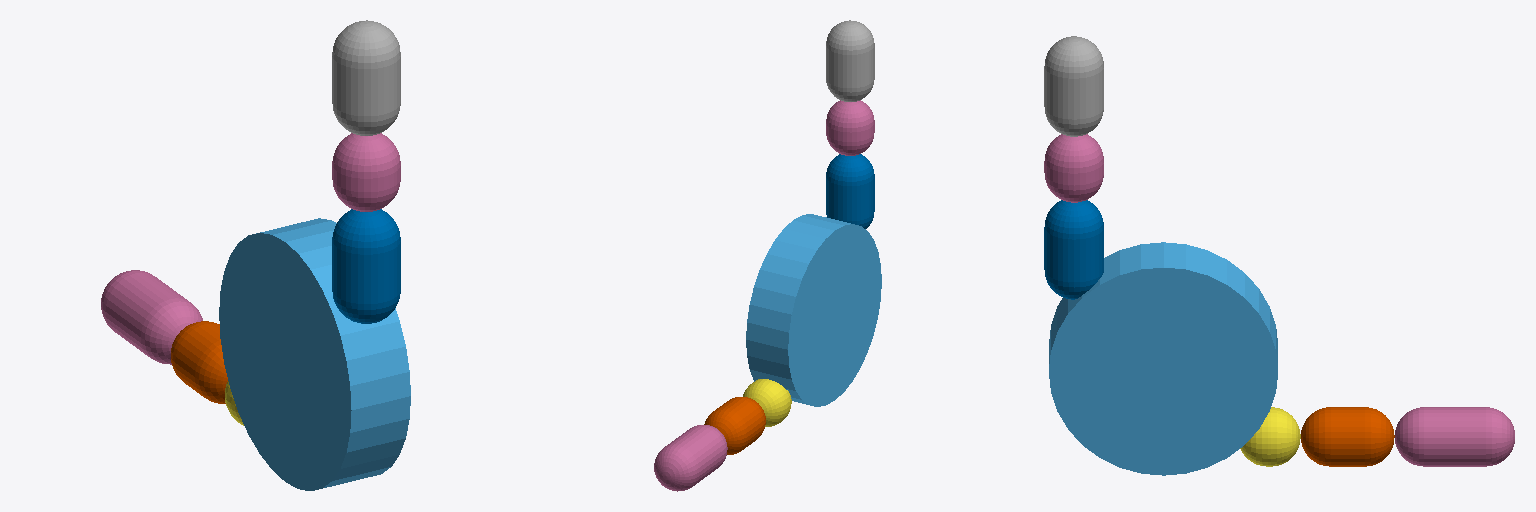
robot.urdf — DexterousHand:
<?xml version="1.0"?>
<robot name="DexterousHand">


    <link name="world"/>
    <joint name="world_to_palm" type="fixed">
        <parent link="world"/>
        <child link="palm"/>
        <origin xyz="0 0 0" rpy="0 0 0"/>
    </joint>
    <link name="palm">
        <inertial>
            <origin xyz="0 0 0.057" rpy="0 0 0"/>
            <mass value="0.30212892864"/>
            <inertia ixx="0.00049080844457568" ixy="0.0" ixz="0.0" iyy="0.00026746366246427523" iyz="0.0" izz="0.00026746366246427523"/>
        </inertial>
        <visual>
            <origin xyz="0 0 0.057" rpy="1.5708 0 1.5708"/>
            <geometry>
                <cylinder radius="0.057" length="0.0296"/>
            </geometry>
            <material name="default"/>
        </visual>
        <collision>
            <origin xyz="0 0 0.057" rpy="1.5708 0 1.5708"/>
            <geometry>
                <cylinder radius="0.057" length="0.0296"/>
            </geometry>
        </collision>
    </link>

    
    <joint name="thumb_joint1" type="revolute">
        <parent link="palm"/>
        <child link="thumb_base"/>
        <origin xyz="0.0029 0.0368 0.0157" rpy="-1.5708 -1.5708 0.0"/>
        <axis xyz="-1 0 0"/>
        <limit lower="-0.349" upper="2.094" effort="1.0" velocity="1.0"/>
    </joint>

    <link name="thumb_base"></link>

    <joint name="thumb_joint2" type="revolute">
        <parent link="thumb_base"/>
        <child link="thumb_proximal"/>
        <origin xyz="0.0 0.0 0.0" rpy="0.0 0.0 0.0"/>
        <axis xyz="0 0 1"/>
        <limit lower="-0.47" upper="2.443" effort="1.0" velocity="1.0"/>
    </joint>

    <link name="thumb_proximal">
        <inertial>
            <origin xyz="0 0 0.01565" rpy="0 0 0"/>
            <mass value="0.021538658803200002"/>
            <inertia ixx="2.9378910096388167e-06" ixy="0.0" ixz="0.0" 
            iyy="2.9378910096388167e-06" iyz="0.0" izz="2.358913912126464e-06"/>
        </inertial>
        <visual>
            <origin xyz="0 0 0.01565" rpy="0 0 0"/>
            <geometry>
                <cylinder radius="0.0148" length="0.0017000000000000001"/>
            </geometry>
            <material name="default"/>
        </visual>
        <visual>
            <origin xyz="0 0 0.0148" rpy="0 0 0"/>
            <geometry>
                <sphere radius="0.0148"/>
            </geometry>
            <material name="default"/>
        </visual>
        <visual>
            <origin xyz="0 0 0.0165" rpy="0 0 0"/>
            <geometry>
                <sphere radius="0.0148"/>
            </geometry>
            <material name="default"/>
        </visual>
        <collision>
            <origin xyz="0 0 0.01565" rpy="0 0 0"/>
            <geometry>
                <cylinder radius="0.0148" length="0.0017000000000000001"/>
            </geometry>
        </collision>
        <collision>
            <origin xyz="0 0 0.0148" rpy="0 0 0"/>
            <geometry>
                <sphere radius="0.0148"/>
            </geometry>
        </collision>
        <collision>
            <origin xyz="0 0 0.0165" rpy="0 0 0"/>
            <geometry>
                <sphere radius="0.0148"/>
            </geometry>
        </collision>
    </link>

    <joint name="thumb_joint3" type="revolute">
        <parent link="thumb_proximal"/>
        <child link="thumb_knuckle"/>
        <origin xyz="0.0 0.0 0.0313" rpy="0.0 0.0 0.0"/>
        <axis xyz="1 0 0"/>
        <limit lower="0.0" upper="0.0" effort="1.0" velocity="1.0"/>
    </joint>

    <link name="thumb_knuckle"></link>

    <joint name="thumb_joint4" type="revolute">
        <parent link="thumb_knuckle"/>
        <child link="thumb_middle"/>
        <origin xyz="0 0 0" rpy="0 0 0"/> 
        <axis xyz="0 1 0"/>
        <limit lower="-1.2" upper="1.9" effort="1.0" velocity="1.0"/>
    </joint>

    <link name="thumb_middle">
        <inertial>
            <origin xyz="0 0 0.0233" rpy="0 0 0"/>
            <mass value="0.032067140582400004"/>
            <inertia ixx="7.5589732685519385e-06" ixy="0.0" ixz="0.0" 
            iyy="7.5589732685519385e-06" iyz="0.0" izz="3.5119932365844485e-06"/>
        </inertial>
        <visual>
            <origin xyz="0 0 0.0233" rpy="0 0 0"/>
            <geometry>
                <cylinder radius="0.0148" length="0.017"/>
            </geometry>
            <material name="default"/>
        </visual>
        <visual>
            <origin xyz="0 0 0.0148" rpy="0 0 0"/>
            <geometry>
                <sphere radius="0.0148"/>
            </geometry>
            <material name="default"/>
        </visual>
        <visual>
            <origin xyz="0 0 0.0318" rpy="0 0 0"/>
            <geometry>
                <sphere radius="0.0148"/>
            </geometry>
            <material name="default"/>
        </visual>
        <collision>
            <origin xyz="0 0 0.0233" rpy="0 0 0"/>
            <geometry>
                <cylinder radius="0.0148" length="0.017"/>
            </geometry>
        </collision>
        <collision>
            <origin xyz="0 0 0.0148" rpy="0 0 0"/>
            <geometry>
                <sphere radius="0.0148"/>
            </geometry>
        </collision>
        <collision>
            <origin xyz="0 0 0.0318" rpy="0 0 0"/>
            <geometry>
                <sphere radius="0.0148"/>
            </geometry>
        </collision>
    </link>

    <joint name="thumb_joint5" type="revolute">
        <parent link="thumb_middle"/>
        <child link="thumb_distal"/>
        <origin xyz="0 0 0.0466" rpy="0 0 0"/> 
        <axis xyz="0 1 0"/>
        <limit lower="-1.34" upper="1.88" effort="1.0" velocity="1.0"/>
    </joint>

    <link name="thumb_distal">
        <inertial>
            <origin xyz="0 0 0.03" rpy="0 0 0"/>
            <mass value="0.04128816384"/>
            <inertia ixx="1.46473890038784e-05" ixy="0.0" ixz="0.0" 
            iyy="1.46473890038784e-05" iyz="0.0" izz="4.521879703756801e-06"/>
        </inertial>
        <visual>
            <origin xyz="0 0 0.03" rpy="0 0 0"/>
            <geometry>
                <cylinder radius="0.0148" length="0.030399999999999996"/>
            </geometry>
            <material name="default"/>
        </visual>
        <visual>
            <origin xyz="0 0 0.0148" rpy="0 0 0"/>
            <geometry>
                <sphere radius="0.0148"/>
            </geometry>
            <material name="default"/>
        </visual>
        <visual>
            <origin xyz="0 0 0.0452" rpy="0 0 0"/>
            <geometry>
                <sphere radius="0.0148"/>
            </geometry>
            <material name="default"/>
        </visual>
        <collision>
            <origin xyz="0 0 0.03" rpy="0 0 0"/>
            <geometry>
                <cylinder radius="0.0148" length="0.030399999999999996"/>
            </geometry>
        </collision>
        <collision>
            <origin xyz="0 0 0.0148" rpy="0 0 0"/>
            <geometry>
                <sphere radius="0.0148"/>
            </geometry>
        </collision>
        <collision>
            <origin xyz="0 0 0.0452" rpy="0 0 0"/>
            <geometry>
                <sphere radius="0.0148"/>
            </geometry>
        </collision>
    </link>

    
    <joint name="index_joint1" type="revolute">
        <parent link="palm"/>
        <child link="index_proximal"/>
        <origin xyz="0.0 0.0 0.0" rpy="0.0 0.0 0.0"/>
        <axis xyz="1 0 0"/>
        <limit lower="0.0" upper="0.0" effort="1.0" velocity="1.0"/>
    </joint>

    <link name="index_proximal">
    </link>

    <joint name="index_joint2" type="revolute">
        <parent link="index_proximal"/>
        <child link="index_dummy"/>
        <origin xyz="0.0 0.0 0.0" rpy="0.0 0.0 0.0"/>
        <axis xyz="0 1 0"/>
        <limit lower="0.0" upper="0.0" effort="1.0" velocity="1.0"/>
    </joint>

    <link name="index_dummy"></link>

    <joint name="index_joint3" type="revolute">
        <parent link="index_dummy"/>
        <child link="index_middle"/>
        <origin xyz="0 0 0" rpy="0 0 0"/>
        <axis xyz="0 1 0"/>
        <limit lower="0.0" upper="0.0" effort="1.0" velocity="1.0"/>
    </joint>

    <link name="index_middle">
    </link>

    <joint name="index_joint4" type="revolute">
        <parent link="index_middle"/>
        <child link="index_distal"/>
        <origin xyz="0 0 0" rpy="0 0 0"/> 
        <axis xyz="0 1 0"/>
        <limit lower="0.0" upper="0.0" effort="1.0" velocity="1.0"/>
    </joint>

    <link name="index_distal">
    </link>

    
    <joint name="middle_joint1" type="revolute">
        <parent link="palm"/>
        <child link="middle_proximal"/>
        <origin xyz="0.0 0.0 0.0" rpy="0.0 0.0 0.0"/>
        <axis xyz="1 0 0"/>
        <limit lower="0.0" upper="0.0" effort="1.0" velocity="1.0"/>
    </joint>

    <link name="middle_proximal">
    </link>

    <joint name="middle_joint2" type="revolute">
        <parent link="middle_proximal"/>
        <child link="middle_dummy"/>
        <origin xyz="0.0 0.0 0.0" rpy="0.0 0.0 0.0"/>
        <axis xyz="0 1 0"/>
        <limit lower="0.0" upper="0.0" effort="1.0" velocity="1.0"/>
    </joint>

    <link name="middle_dummy"></link>

    <joint name="middle_joint3" type="revolute">
        <parent link="middle_dummy"/>
        <child link="middle_middle"/>
        <origin xyz="0 0 0" rpy="0 0 0"/>
        <axis xyz="0 1 0"/>
        <limit lower="0.0" upper="0.0" effort="1.0" velocity="1.0"/>
    </joint>

    <link name="middle_middle">
    </link>

    <joint name="middle_joint4" type="revolute">
        <parent link="middle_middle"/>
        <child link="middle_distal"/>
        <origin xyz="0 0 0" rpy="0 0 0"/> 
        <axis xyz="0 1 0"/>
        <limit lower="0.0" upper="0.0" effort="1.0" velocity="1.0"/>
    </joint>

    <link name="middle_distal">
    </link>

    
    <joint name="ring_joint1" type="revolute">
        <parent link="palm"/>
        <child link="ring_proximal"/>
        <origin xyz="0.0 0.0 0.0" rpy="0.0 0.0 0.0"/>
        <axis xyz="1 0 0"/>
        <limit lower="0.0" upper="0.0" effort="1.0" velocity="1.0"/>
    </joint>

    <link name="ring_proximal">
    </link>

    <joint name="ring_joint2" type="revolute">
        <parent link="ring_proximal"/>
        <child link="ring_dummy"/>
        <origin xyz="0.0 0.0 0.0" rpy="0.0 0.0 0.0"/>
        <axis xyz="0 1 0"/>
        <limit lower="0.0" upper="0.0" effort="1.0" velocity="1.0"/>
    </joint>

    <link name="ring_dummy"></link>

    <joint name="ring_joint3" type="revolute">
        <parent link="ring_dummy"/>
        <child link="ring_middle"/>
        <origin xyz="0 0 0" rpy="0 0 0"/>
        <axis xyz="0 1 0"/>
        <limit lower="0.0" upper="0.0" effort="1.0" velocity="1.0"/>
    </joint>

    <link name="ring_middle">
    </link>

    <joint name="ring_joint4" type="revolute">
        <parent link="ring_middle"/>
        <child link="ring_distal"/>
        <origin xyz="0 0 0" rpy="0 0 0"/> 
        <axis xyz="0 1 0"/>
        <limit lower="0.0" upper="0.0" effort="1.0" velocity="1.0"/>
    </joint>

    <link name="ring_distal">
    </link>

    
    <joint name="little_joint0" type="revolute">
        <parent link="palm"/>
        <child link="little_base"/>
        <origin xyz="0.0 0.0 0.0" rpy="0.0 0.0 0.0"/>
        <axis xyz="0 1 0"/>
        <limit lower="0.0" upper="0.0" effort="1.0" velocity="1.0"/>
    </joint>

    <link name="little_base"></link>

    <joint name="little_joint1" type="revolute">
        <parent link="little_base"/>
        <child link="little_proximal"/>
        <origin xyz="0.0 -0.0443 0.091" rpy="-0.0 -0.0 -0.0"/>
        <axis xyz="0 1 0"/>
        <limit lower="-0.314" upper="2.23" effort="1.0" velocity="1.0"/>
    </joint>

    <link name="little_proximal">
        <inertial>
            <origin xyz="0 0 0.02655" rpy="0 0 0"/>
            <mass value="0.036540024998400006"/>
            <inertia ixx="1.058665009272394e-05" ixy="0.0" ixz="0.0" 
            iyy="1.058665009272394e-05" iyz="0.0" izz="4.001863537824769e-06"/>
        </inertial>
        <visual>
            <origin xyz="0 0 0.02655" rpy="0 0 0"/>
            <geometry>
                <cylinder radius="0.0148" length="0.0235"/>
            </geometry>
            <material name="default"/>
        </visual>
        <visual>
            <origin xyz="0 0 0.0148" rpy="0 0 0"/>
            <geometry>
                <sphere radius="0.0148"/>
            </geometry>
            <material name="default"/>
        </visual>
        <visual>
            <origin xyz="0 0 0.0383" rpy="0 0 0"/>
            <geometry>
                <sphere radius="0.0148"/>
            </geometry>
            <material name="default"/>
        </visual>
        <collision>
            <origin xyz="0 0 0.02655" rpy="0 0 0"/>
            <geometry>
                <cylinder radius="0.0148" length="0.0235"/>
            </geometry>
        </collision>
        <collision>
            <origin xyz="0 0 0.0148" rpy="0 0 0"/>
            <geometry>
                <sphere radius="0.0148"/>
            </geometry>
        </collision>
        <collision>
            <origin xyz="0 0 0.0383" rpy="0 0 0"/>
            <geometry>
                <sphere radius="0.0148"/>
            </geometry>
        </collision>
    </link>

    <joint name="little_joint2" type="revolute">
        <parent link="little_proximal"/>
        <child link="little_dummy"/>
        <origin xyz="0.0 0.0 0.038" rpy="0.0 0.0 0.0"/>
        <axis xyz="1 0 0"/>
        <limit lower="-1.047" upper="1.047" effort="1.0" velocity="1.0"/>
    </joint>

    <link name="little_dummy"></link>

    <joint name="little_joint3" type="revolute">
        <parent link="little_dummy"/>
        <child link="little_middle"/>
        <origin xyz="0 0 0.015100000000000002" rpy="0 0 0"/>
        <axis xyz="0 1 0"/>
        <limit lower="-0.506" upper="1.885" effort="1.0" velocity="1.0"/>
    </joint>

    <link name="little_middle">
        <inertial>
            <origin xyz="0 0 0.01805" rpy="0 0 0"/>
            <mass value="0.0248417119104"/>
            <inertia ixx="4.058162759109537e-06" ixy="0.0" ixz="0.0" 
            iyy="4.058162759109537e-06" iyz="0.0" izz="2.7206642884270085e-06"/>
        </inertial>
        <visual>
            <origin xyz="0 0 0.01805" rpy="0 0 0"/>
            <geometry>
                <cylinder radius="0.0148" length="0.006499999999999999"/>
            </geometry>
            <material name="default"/>
        </visual>
        <visual>
            <origin xyz="0 0 0.0148" rpy="0 0 0"/>
            <geometry>
                <sphere radius="0.0148"/>
            </geometry>
            <material name="default"/>
        </visual>
        <visual>
            <origin xyz="0 0 0.0213" rpy="0 0 0"/>
            <geometry>
                <sphere radius="0.0148"/>
            </geometry>
            <material name="default"/>
        </visual>
        <collision>
            <origin xyz="0 0 0.01805" rpy="0 0 0"/>
            <geometry>
                <cylinder radius="0.0148" length="0.006499999999999999"/>
            </geometry>
        </collision>
        <collision>
            <origin xyz="0 0 0.0148" rpy="0 0 0"/>
            <geometry>
                <sphere radius="0.0148"/>
            </geometry>
        </collision>
        <collision>
            <origin xyz="0 0 0.0213" rpy="0 0 0"/>
            <geometry>
                <sphere radius="0.0148"/>
            </geometry>
        </collision>
    </link>

    <joint name="little_joint4" type="revolute">
        <parent link="little_middle"/>
        <child link="little_distal"/>
        <origin xyz="0 0 0.0361" rpy="0 0 0"/>
        <axis xyz="0 1 0"/>
        <limit lower="-0.366" upper="2.042" effort="1.0" velocity="1.0"/>
    </joint>

    <link name="little_distal">
        <inertial>
            <origin xyz="0 0 0.026" rpy="0 0 0"/>
            <mass value="0.035783075328"/>
            <inertia ixx="1.002260084553728e-05" ixy="0.0" ixz="0.0" 
            iyy="1.002260084553728e-05" iyz="0.0" izz="3.91896240992256e-06"/>
        </inertial>
        <visual>
            <origin xyz="0 0 0.026" rpy="0 0 0"/>
            <geometry>
                <cylinder radius="0.0148" length="0.022399999999999996"/>
            </geometry>
            <material name="default"/>
        </visual>
        <visual>
            <origin xyz="0 0 0.0148" rpy="0 0 0"/>
            <geometry>
                <sphere radius="0.0148"/>
            </geometry>
            <material name="default"/>
        </visual>
        <visual>
            <origin xyz="0 0 0.0372" rpy="0 0 0"/>
            <geometry>
                <sphere radius="0.0148"/>
            </geometry>
            <material name="default"/>
        </visual>
        <collision>
            <origin xyz="0 0 0.026" rpy="0 0 0"/>
            <geometry>
                <cylinder radius="0.0148" length="0.022399999999999996"/>
            </geometry>
        </collision>
        <collision>
            <origin xyz="0 0 0.0148" rpy="0 0 0"/>
            <geometry>
                <sphere radius="0.0148"/>
            </geometry>
        </collision>
        <collision>
            <origin xyz="0 0 0.0372" rpy="0 0 0"/>
            <geometry>
                <sphere radius="0.0148"/>
            </geometry>
        </collision>
    </link>

</robot>

--- What the picture shows (computed from the rendered views, not written in the file) ---
3 views of the same robot in one strip: view 1: azimuth 30°, elevation 25°; view 2: azimuth 150°, elevation 25°; view 3: azimuth 270°, elevation 25° (orthographic).
Robot: DexterousHand — 24 links, 23 joints (22 revolute, 1 fixed); root link world; default pose: every joint at zero.
Links seen in each view (by area): view 1: palm, little_proximal, little_distal, thumb_distal, little_middle, thumb_middle; view 2: palm, little_distal, thumb_distal, little_proximal, little_middle, thumb_middle, thumb_proximal; view 3: palm, thumb_distal, little_distal, little_proximal, thumb_middle, little_middle, thumb_proximal.
Boxes of the visible links, x1=… form: palm: x1=219, y1=218, x2=410, y2=490; little_proximal: x1=332, y1=209, x2=400, y2=323; little_distal: x1=332, y1=20, x2=400, y2=135; thumb_distal: x1=101, y1=270, x2=202, y2=364; little_middle: x1=332, y1=133, x2=400, y2=211; thumb_middle: x1=171, y1=321, x2=227, y2=403; palm: x1=746, y1=214, x2=881, y2=406; little_distal: x1=826, y1=20, x2=874, y2=101; thumb_distal: x1=654, y1=425, x2=727, y2=491; little_proximal: x1=826, y1=154, x2=874, y2=228; little_middle: x1=826, y1=100, x2=874, y2=155; thumb_middle: x1=704, y1=397, x2=765, y2=454; thumb_proximal: x1=743, y1=379, x2=791, y2=426; palm: x1=1049, y1=242, x2=1277, y2=475; thumb_distal: x1=1395, y1=407, x2=1514, y2=466; little_distal: x1=1044, y1=36, x2=1103, y2=136; little_proximal: x1=1044, y1=200, x2=1103, y2=299; thumb_middle: x1=1301, y1=407, x2=1394, y2=466; little_middle: x1=1044, y1=134, x2=1103, y2=202; thumb_proximal: x1=1240, y1=407, x2=1300, y2=466.
Bounding box of the posed robot: 0.0325 × 0.2338 × 0.2322 m (x, y, z).
Geometry: primitives only (box / cylinder / sphere), no mesh files.
